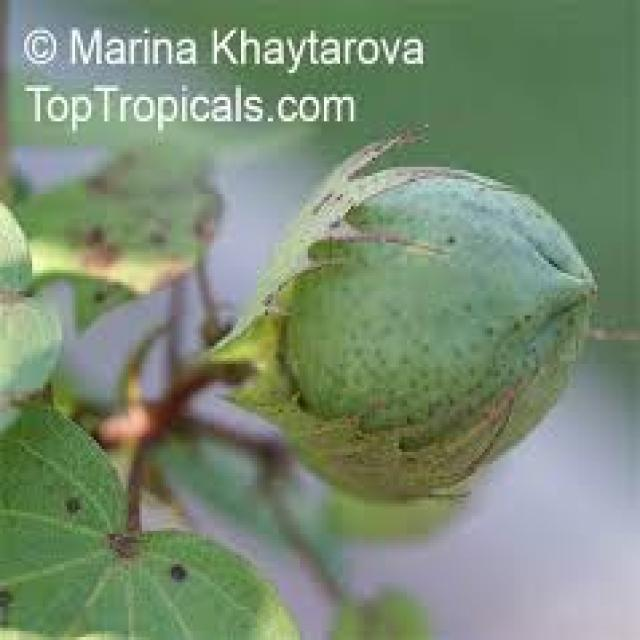Early Boll: (249, 151, 605, 498)
